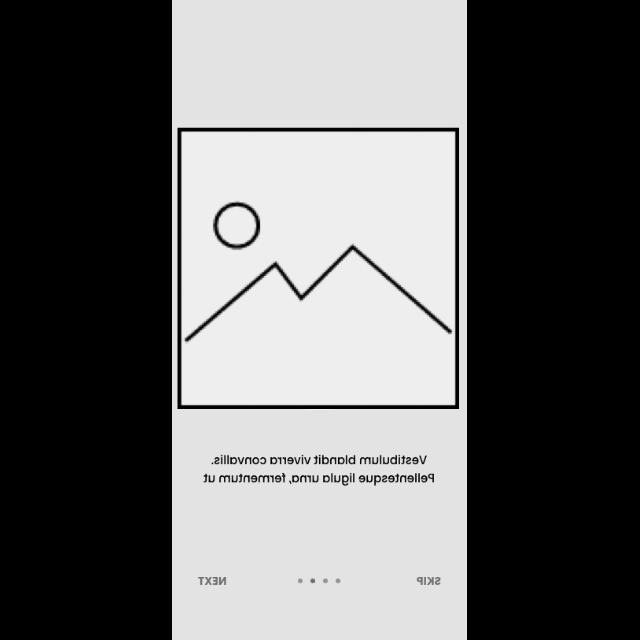image: (178, 128, 460, 410)
pageindicator: (298, 578, 340, 582)
text: (203, 454, 434, 488), (199, 576, 227, 584), (417, 576, 441, 584)
